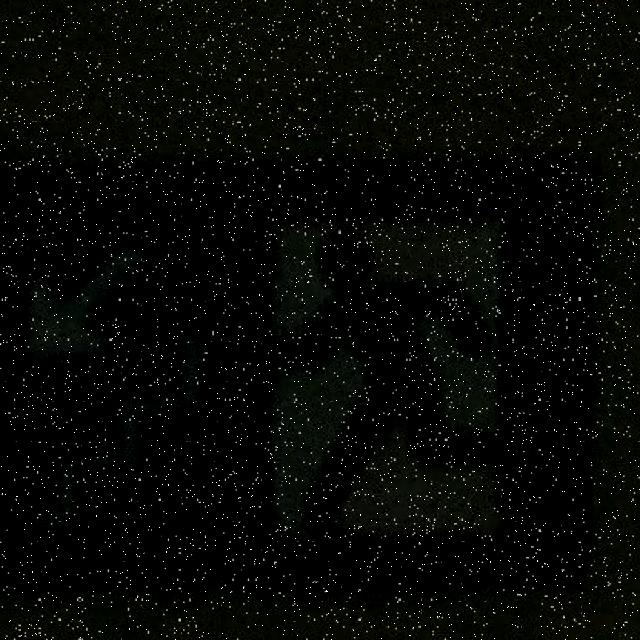emergency_exit: (2, 1, 639, 638)
